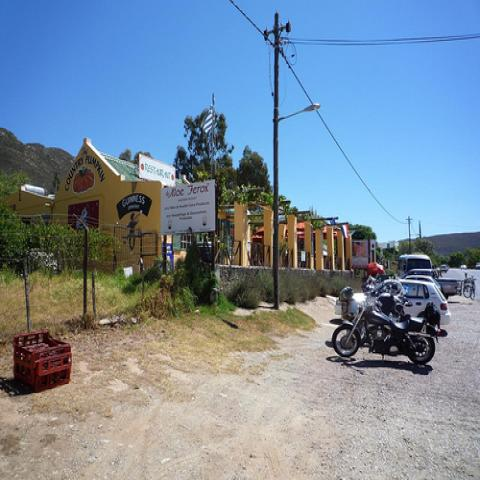bus: (395, 251, 433, 276)
car: (333, 278, 452, 325), (402, 274, 445, 292), (404, 268, 434, 278), (440, 265, 448, 273), (474, 261, 479, 271), (460, 265, 467, 270)
motorcycle: (330, 280, 444, 366), (336, 286, 414, 324)
